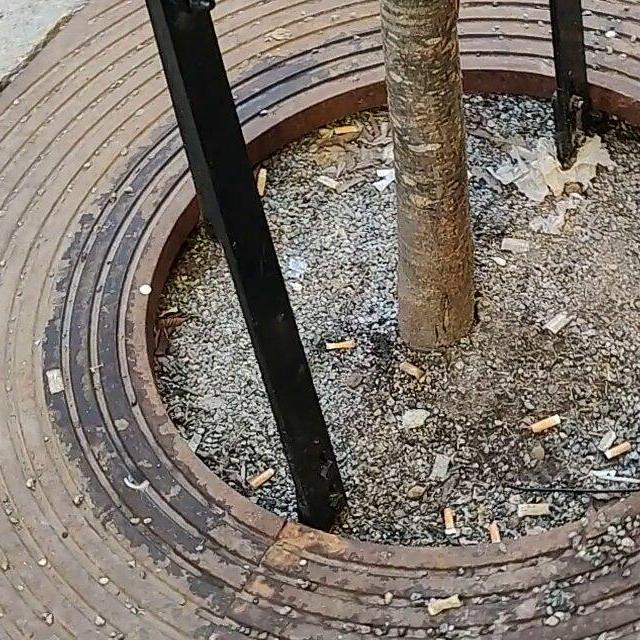Cigarette Butt: (424, 590, 466, 619), (530, 416, 559, 438), (255, 161, 272, 198), (439, 504, 458, 536), (323, 333, 355, 351), (604, 441, 628, 463), (250, 466, 272, 490), (325, 124, 362, 138), (487, 525, 504, 545)
